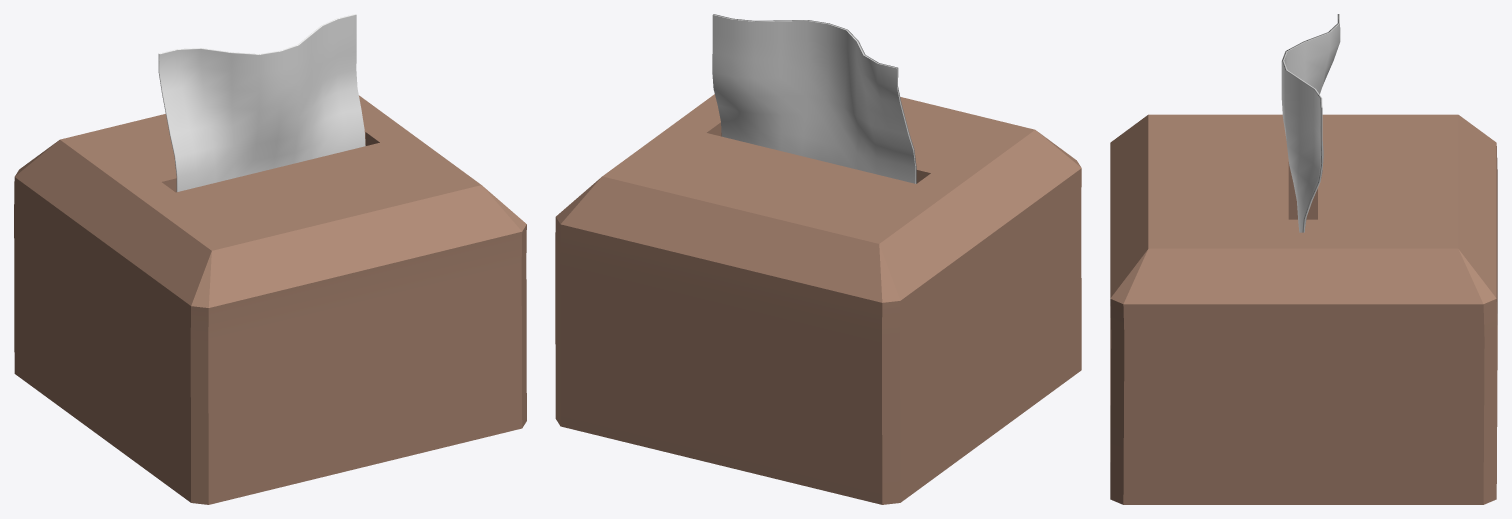
Rendered from fbx_tissue_box_2.fbx.
3 views of the same model, side by side, from view 1: azimuth 30°, elevation 25°; view 2: azimuth 150°, elevation 25°; view 3: azimuth 270°, elevation 25° (orthographic). The views are drawn at different scales.
Parts seen in each view (by area): view 1: fbx_tissue_box_2; view 2: fbx_tissue_box_2; view 3: fbx_tissue_box_2.
Part boxes in pixels (left/top/right/bottom): fbx_tissue_box_2: left=14, top=14, right=526, bottom=504; fbx_tissue_box_2: left=555, top=14, right=1081, bottom=504; fbx_tissue_box_2: left=1110, top=14, right=1497, bottom=504.
Bounding box in the file's own units: 0.182 × 0.1832 × 0.1784.
Materials: 1 (1 with a texture image).
